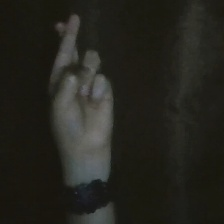R: (35, 7, 126, 159)
